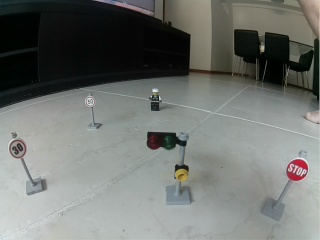Person: (148, 88, 163, 112)
Red Traffic Light: (147, 132, 192, 206)
Speed Limit 30: (9, 139, 27, 159)
Speed Limit 50: (85, 96, 96, 108)
Stop Sign: (286, 158, 309, 182)
